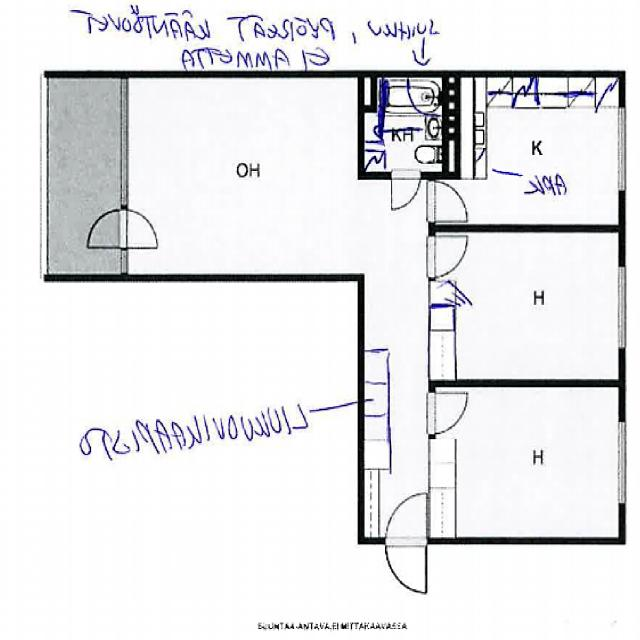door: (386, 491, 426, 546), (386, 538, 426, 592), (429, 236, 471, 278), (429, 182, 469, 222), (429, 394, 469, 434), (120, 211, 160, 250), (88, 211, 127, 250), (391, 173, 421, 215)
